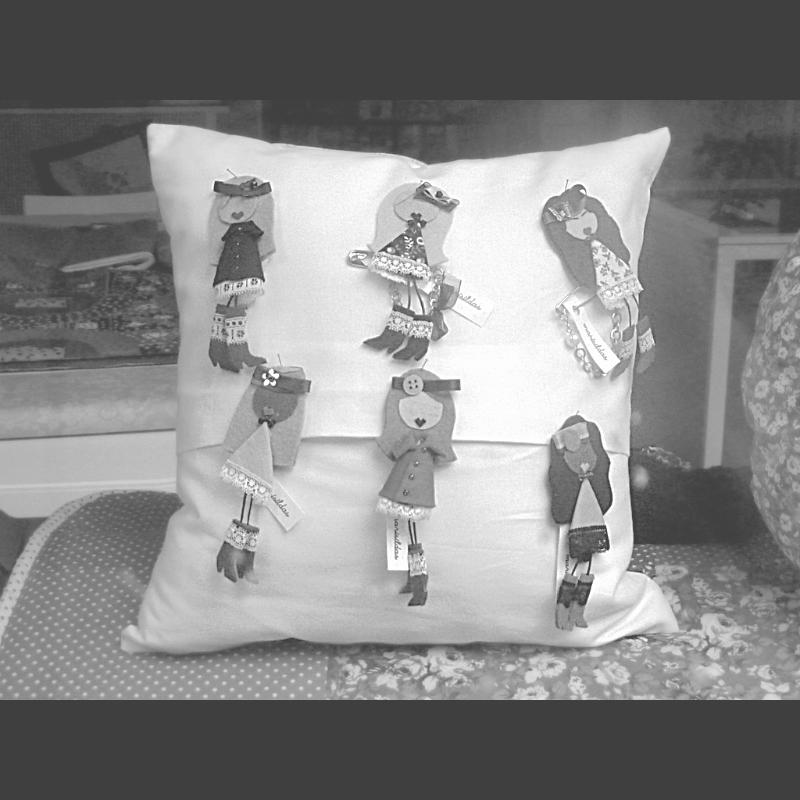pillow: (120, 124, 678, 648)
